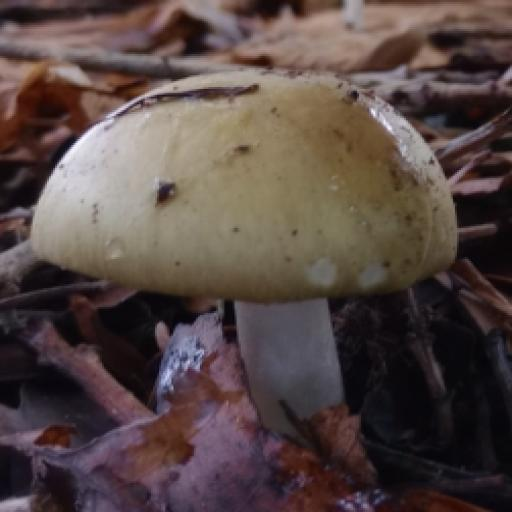mushroom: (6, 0, 506, 457)
